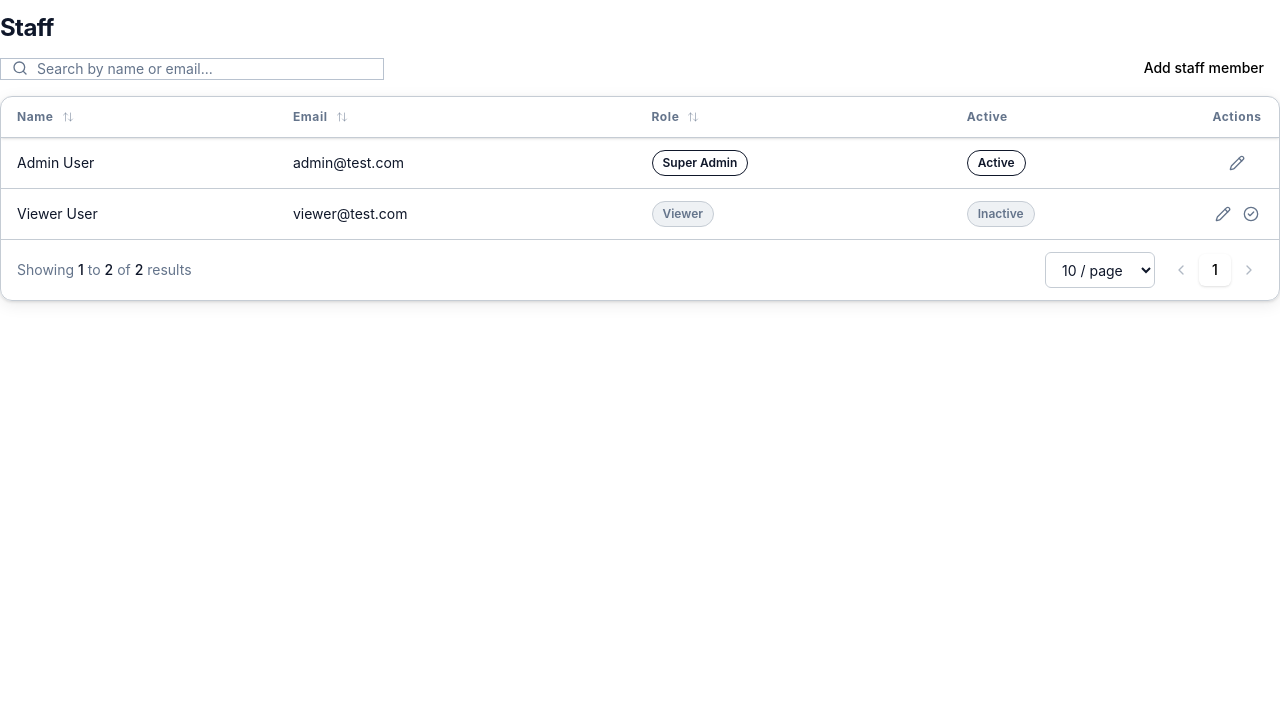
Scenario: StaffListPage › SUPER_ADMIN role › opens the edit dialog, pre-filled, when a row is double-clicked
Double-click the text "Viewer User" at (57, 214), box [1, 188, 277, 239]
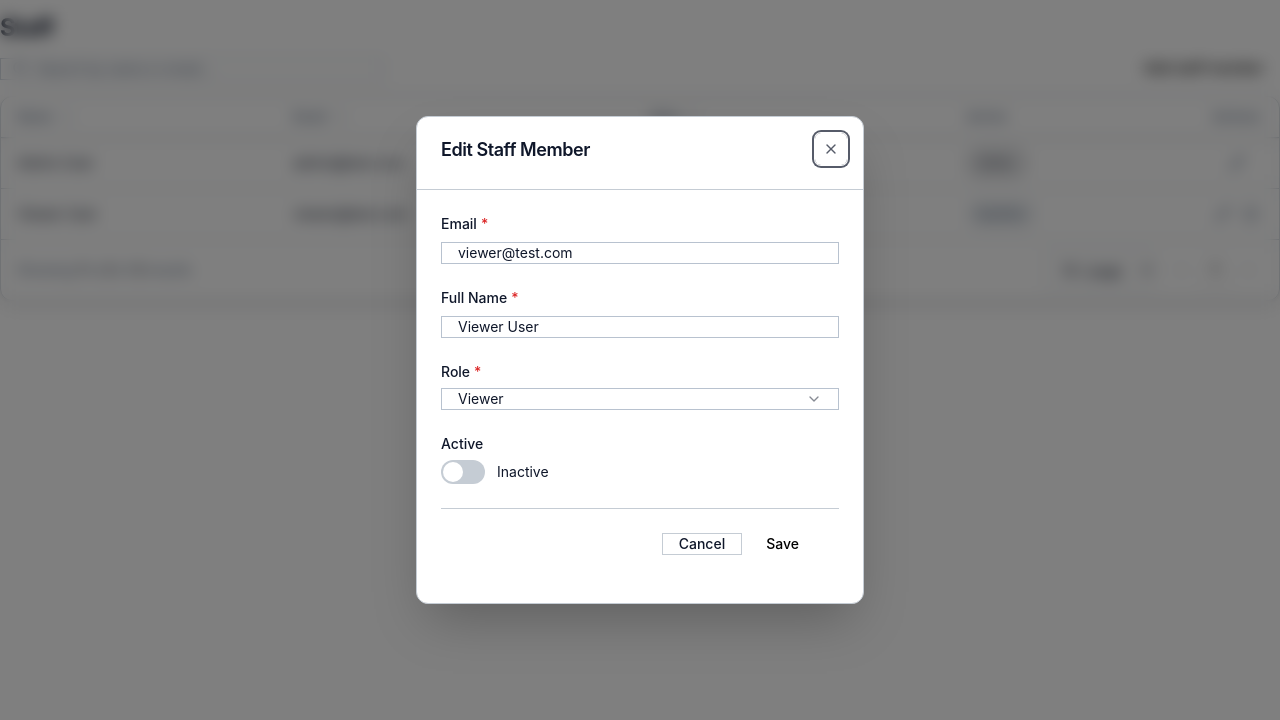
expect the text "Edit Staff Member" is shown: met, box [441, 139, 590, 160]
expect the field with placeholder "staff@example.com" holds "viewer@test.com": met, box [441, 242, 839, 264]
